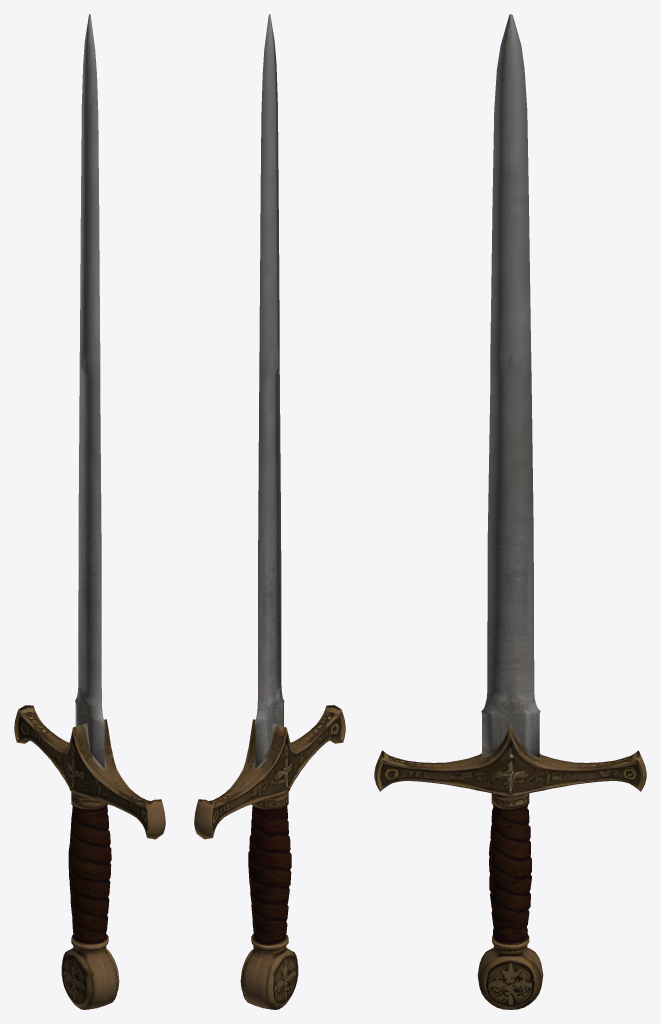
The model's file is sword.glb.
3 views of the same model, side by side, from view 1: azimuth 30°, elevation 25°; view 2: azimuth 150°, elevation 25°; view 3: azimuth 270°, elevation 25° (orthographic).
Visible parts, largest first — view 1: tripo_node_c2e463aa-30d2-45db-a19b-6f7263bc13bc; view 2: tripo_node_c2e463aa-30d2-45db-a19b-6f7263bc13bc; view 3: tripo_node_c2e463aa-30d2-45db-a19b-6f7263bc13bc.
Boxes of the visible parts, x1,y1,x2,y2 form: tripo_node_c2e463aa-30d2-45db-a19b-6f7263bc13bc: [14, 14, 165, 1009]; tripo_node_c2e463aa-30d2-45db-a19b-6f7263bc13bc: [194, 14, 345, 1009]; tripo_node_c2e463aa-30d2-45db-a19b-6f7263bc13bc: [374, 14, 646, 1009].
Size of the model in its own units: 0.0425 by 0.9995 by 0.2485.
1 material, 1 textured.
